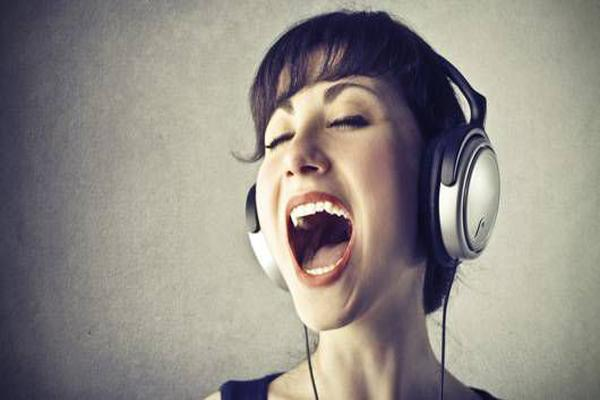headphone: (357, 17, 553, 297), (226, 173, 285, 294)
